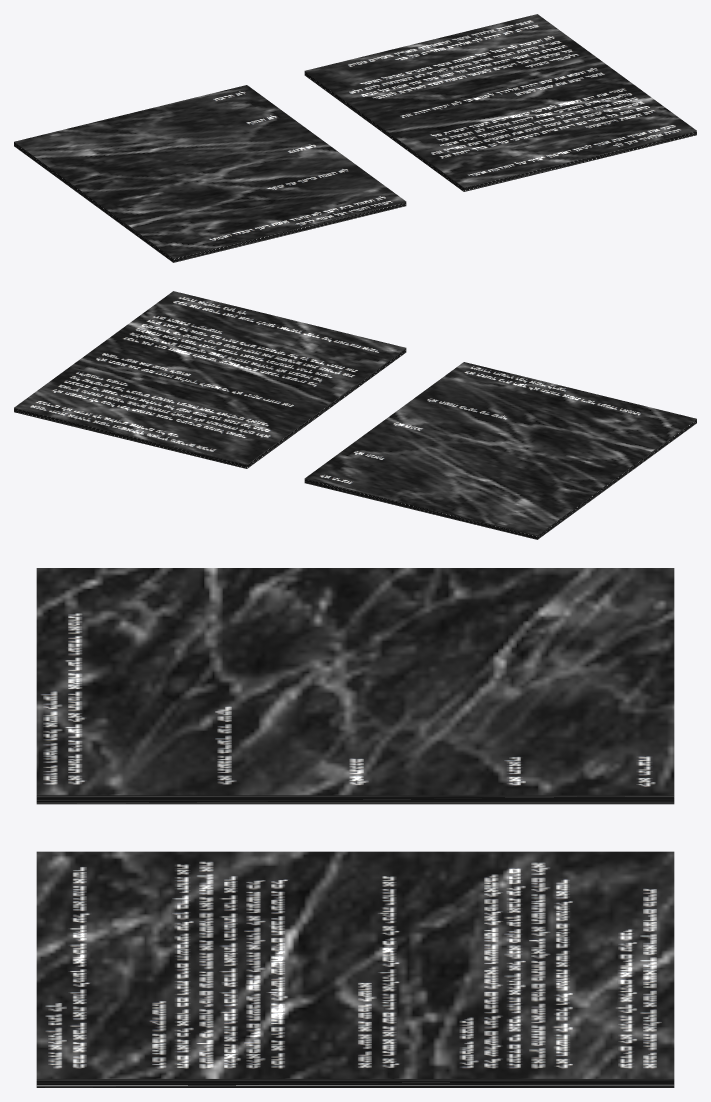
Rendered from the_ten_commandments_of_the_tabernacle.glb.
The picture shows the model from 3 angles, top to bottom: view 1: azimuth 30°, elevation 25°; view 2: azimuth 150°, elevation 25°; view 3: azimuth 270°, elevation 25°; orthographic projection. The views are drawn at different scales.
Visible parts, largest first — view 1: Right Tablet.001, Right Tablet; view 2: Right Tablet.001, Right Tablet; view 3: Right Tablet.001, Right Tablet.
Boxes of the visible parts, left/top/right/bottom form: Right Tablet.001: left=14, top=85, right=406, bottom=262; Right Tablet: left=304, top=14, right=696, bottom=191; Right Tablet.001: left=304, top=362, right=696, bottom=539; Right Tablet: left=14, top=291, right=406, bottom=468; Right Tablet.001: left=36, top=568, right=674, bottom=804; Right Tablet: left=36, top=851, right=674, bottom=1087.
Bounding box in the file's own units: 2.76 × 0.0225 × 1.46.
Materials: 1 (1 with a texture image).
